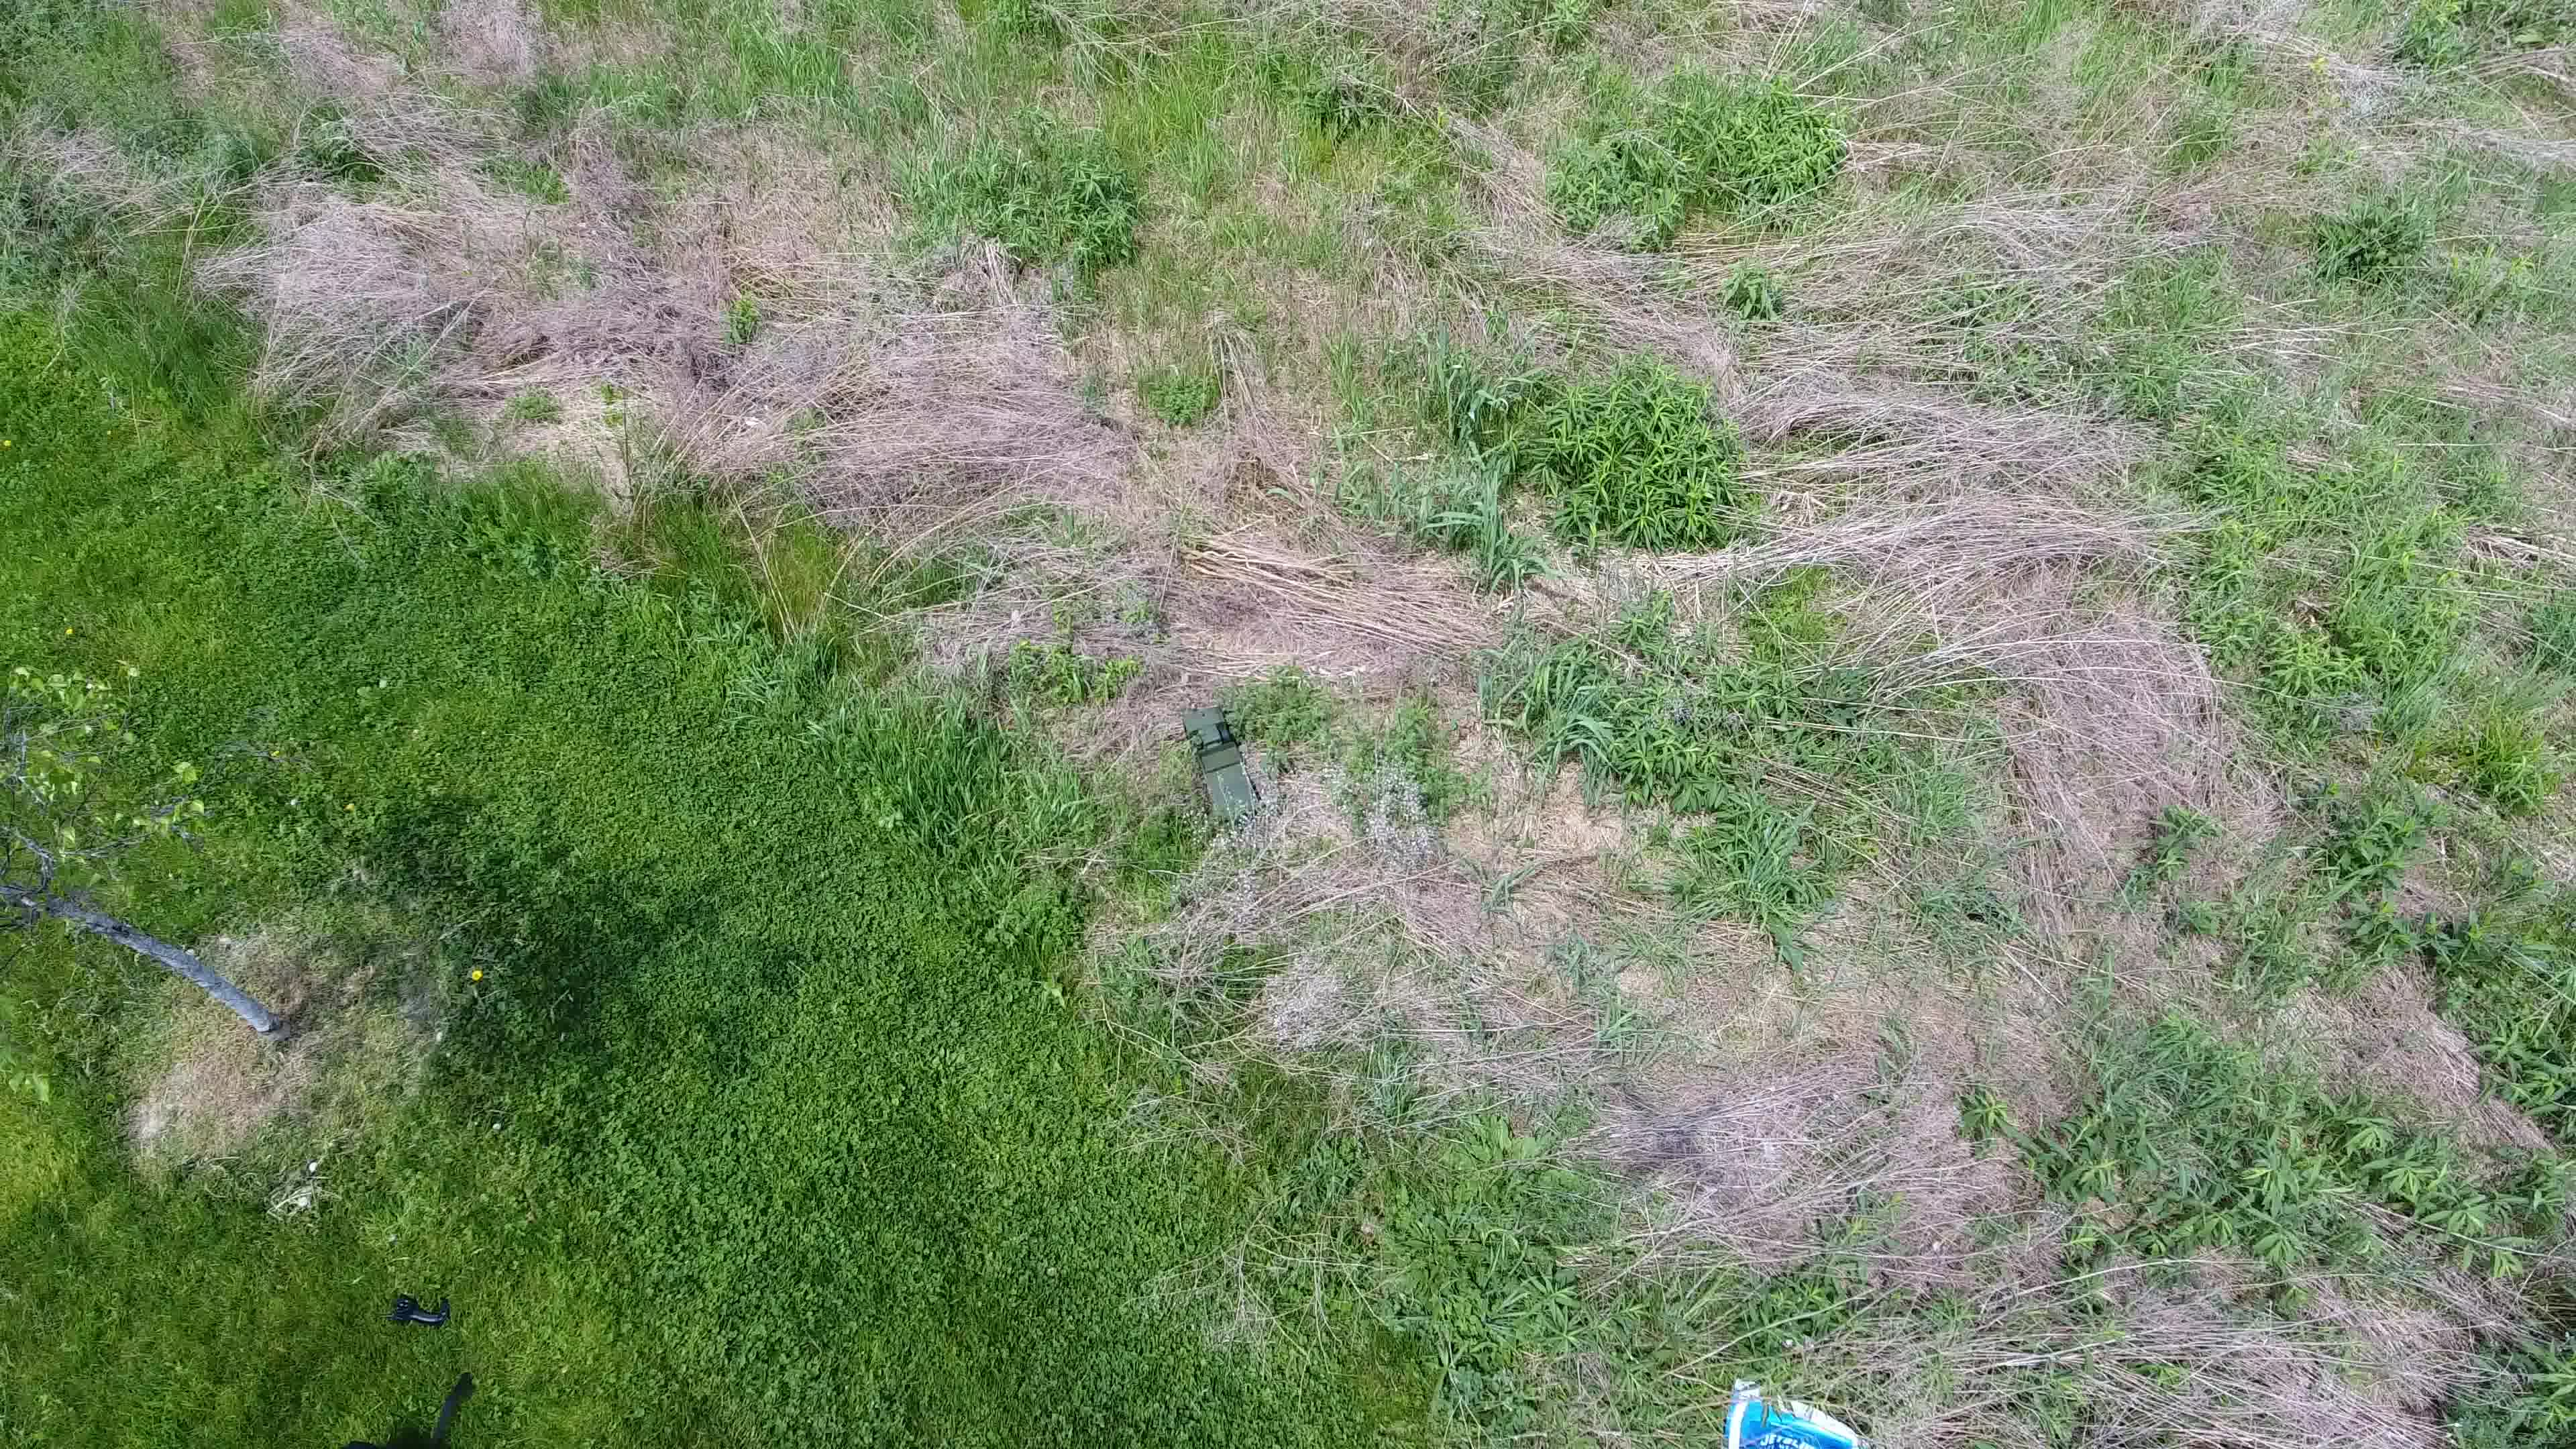transporter9: (1178, 704, 1276, 828)
